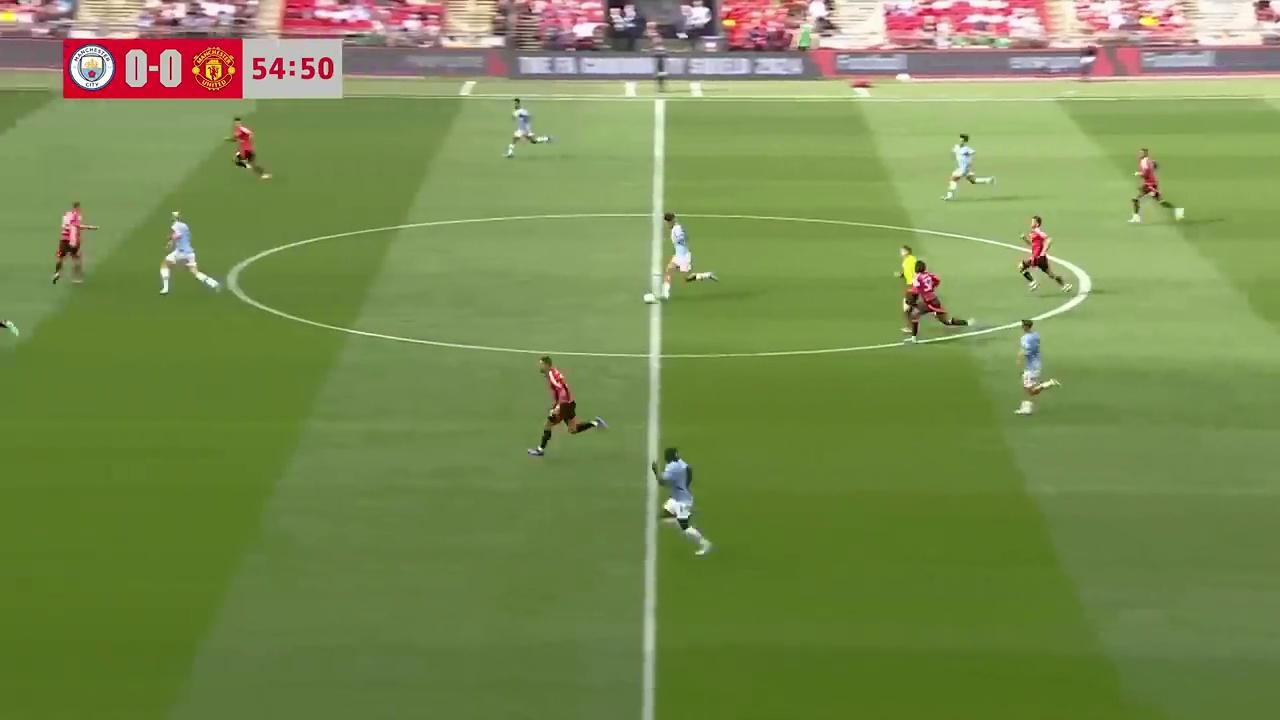ball: (643, 286, 657, 307)
player: (527, 355, 598, 455), (652, 447, 713, 556), (651, 212, 717, 298), (1013, 318, 1060, 415), (910, 262, 965, 344), (51, 198, 100, 287), (1017, 215, 1070, 292), (159, 210, 207, 294), (1127, 147, 1175, 223), (503, 97, 551, 158), (228, 117, 271, 181), (943, 134, 978, 200), (0, 314, 21, 368)
referee: (897, 241, 928, 330)
